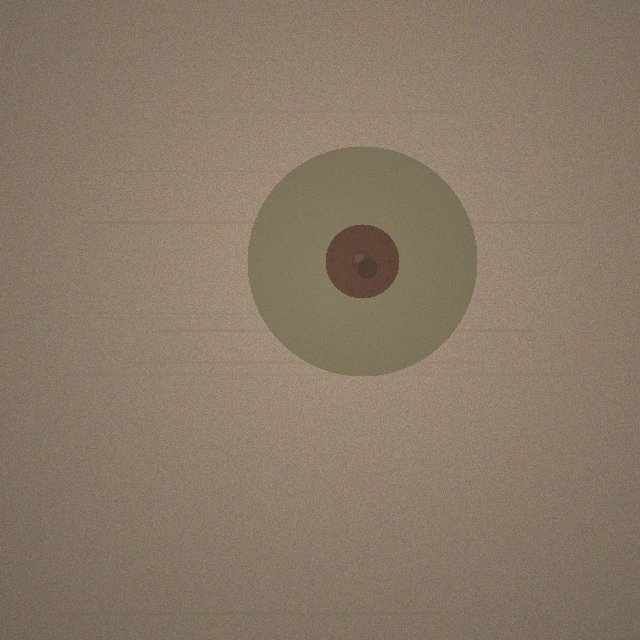cold_weld: (247, 146, 477, 376)
